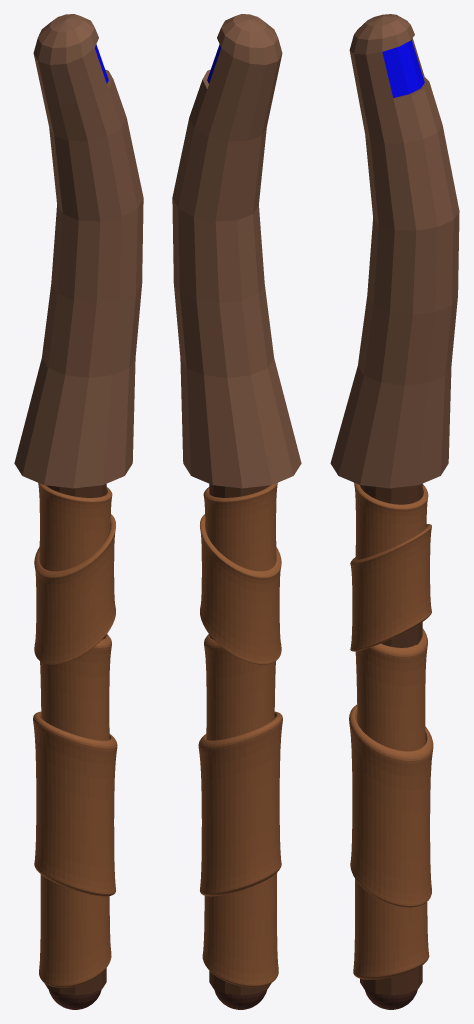
The model's file is Wand 343.glb.
3 views of the same model, side by side, from view 1: azimuth 30°, elevation 25°; view 2: azimuth 150°, elevation 25°; view 3: azimuth 330°, elevation 25° (orthographic).
Parts seen in each view (by area): view 1: GeneratedWand; view 2: GeneratedWand; view 3: GeneratedWand.
Part boxes in pixels (bbox=[...]): GeneratedWand: bbox=[14, 14, 143, 1009]; GeneratedWand: bbox=[172, 14, 301, 1009]; GeneratedWand: bbox=[330, 14, 459, 1009].
Size of the model in its own units: 0.0644 by 0.5274 by 0.0572.
